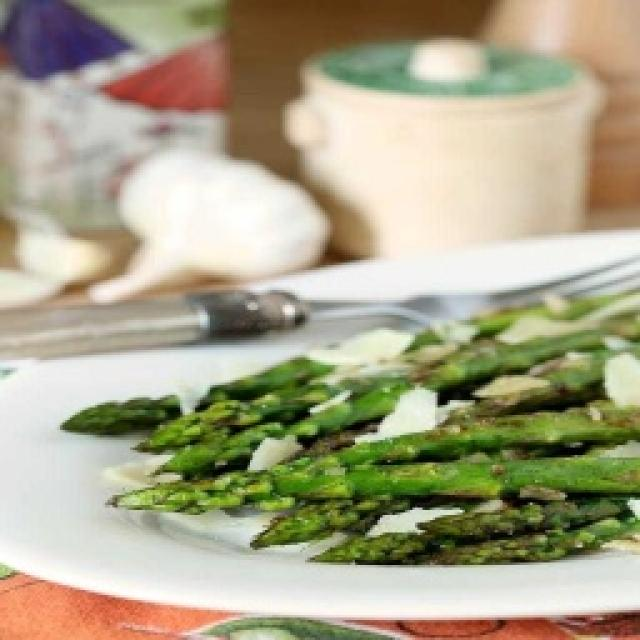Asparagus spear: (141, 456, 640, 502)
